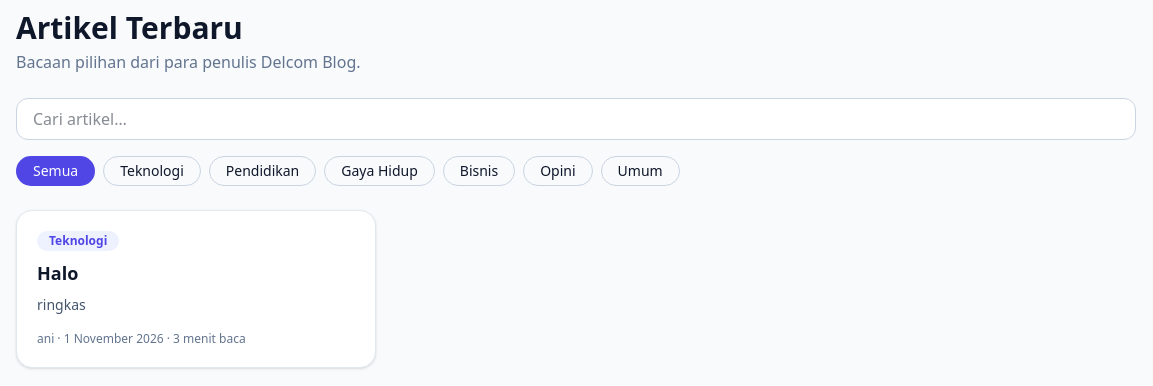
Test: PublicArticleList › pencarian real-time dan filter kategori
Expected: the heading "Halo" is shown, [37,261,78,285]
Type "go" into the search field labelled "Cari artikel" at (576, 119), box [16,98,1136,140]
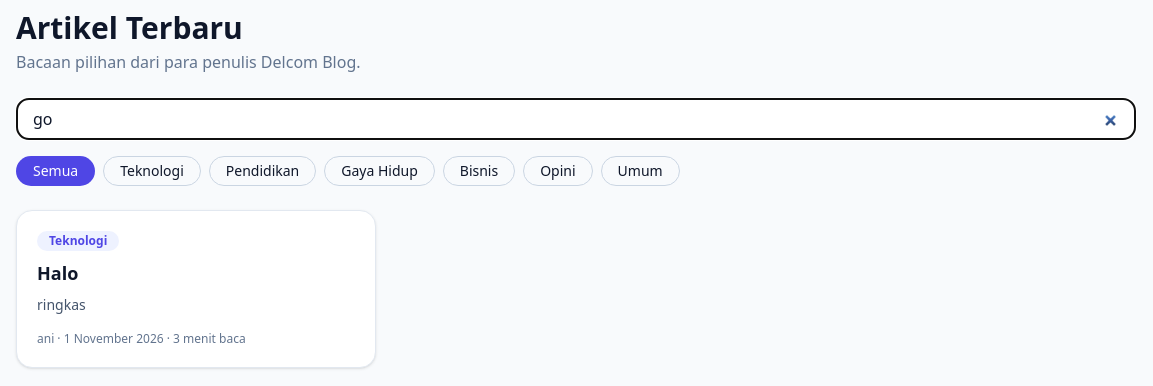
Click the button "Bisnis" at (479, 171), box [443,156,515,186]
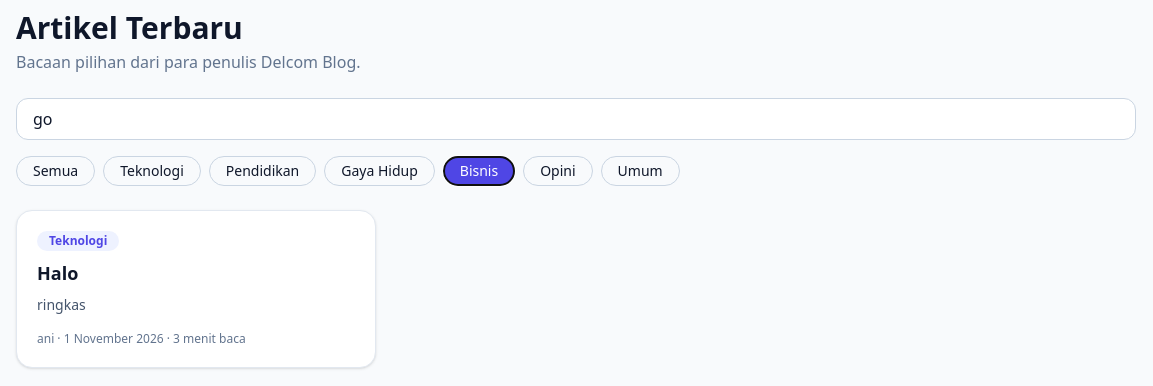
Expected: the button "Bisnis" is pressed, [443,156,515,186]
